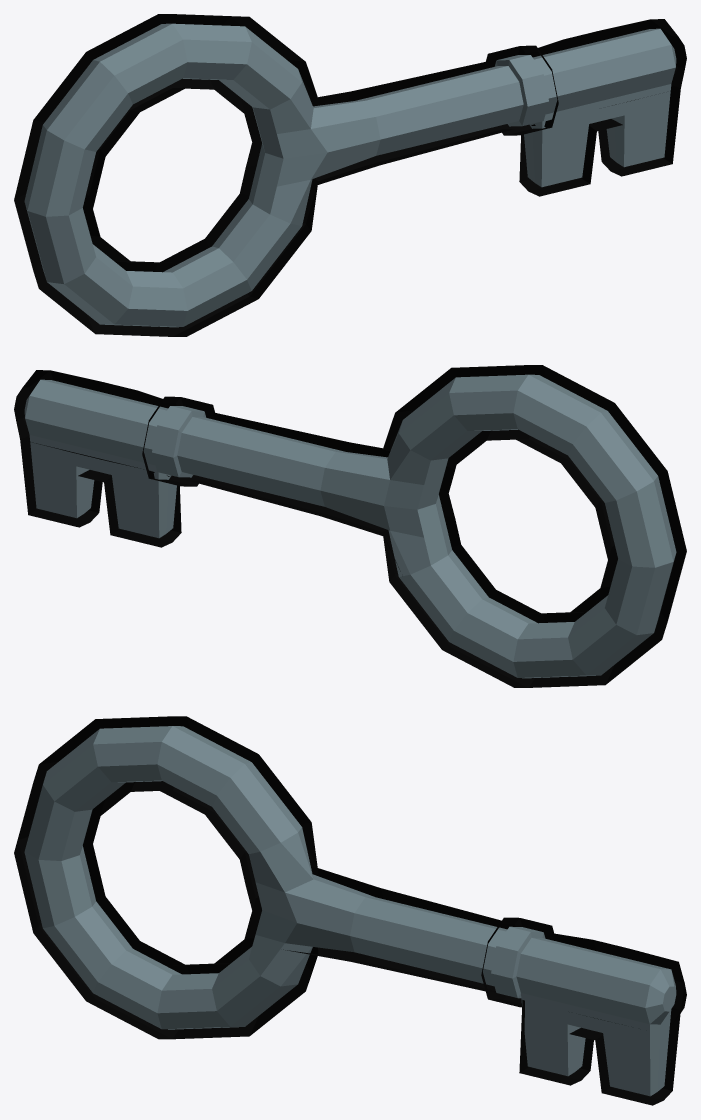
Rendered from Key.fbx.
3 views of the same model, one above another, from view 1: azimuth 30°, elevation 25°; view 2: azimuth 150°, elevation 25°; view 3: azimuth 330°, elevation 25° (orthographic).
Visible parts, largest first — view 1: Key, Key_outline; view 2: Key, Key_outline; view 3: Key, Key_outline.
Part boxes in pixels (<box>): Key: <box>24,23,676,327</box>; Key_outline: <box>14,14,686,336</box>; Key: <box>24,374,676,678</box>; Key_outline: <box>14,365,686,687</box>; Key: <box>24,726,676,1096</box>; Key_outline: <box>14,716,686,1105</box>.
Size of the model in its own units: 226 by 106 by 26.96.
